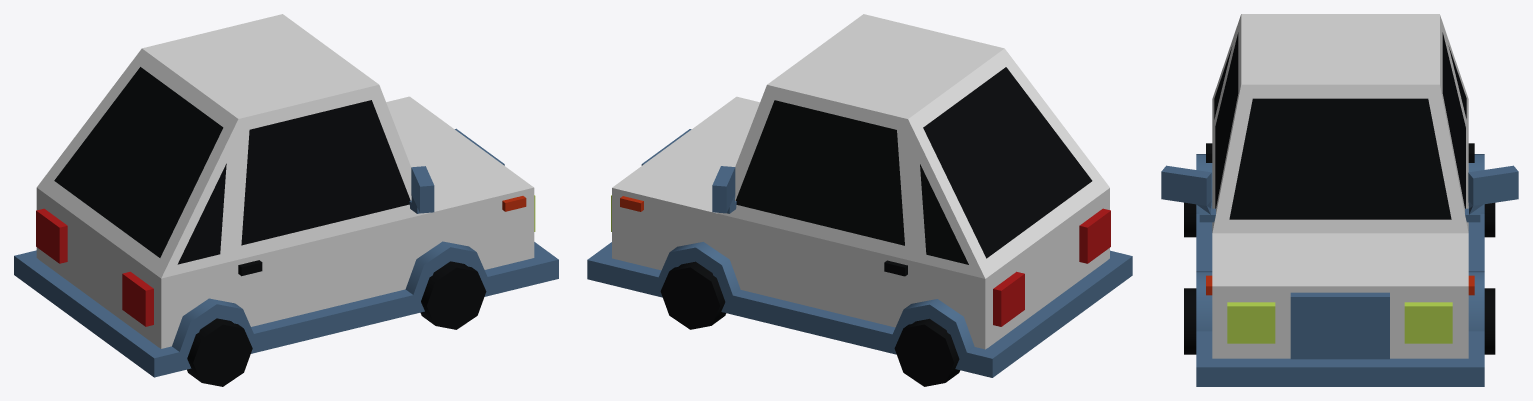
The model's file is Car2.fbx.
3 renders of one model, left to right at view 1: azimuth 30°, elevation 25°; view 2: azimuth 150°, elevation 25°; view 3: azimuth 270°, elevation 25°, orthographic. The views are drawn at different scales.
Visible parts, largest first — view 1: Car2; view 2: Car2; view 3: Car2.
Boxes of the visible parts, x1=… form: Car2: x1=14, y1=14, x2=558, y2=386; Car2: x1=587, y1=14, x2=1132, y2=386; Car2: x1=1161, y1=14, x2=1518, y2=386.
Size of the model in its own units: 19.06 by 10.67 by 14.16.
